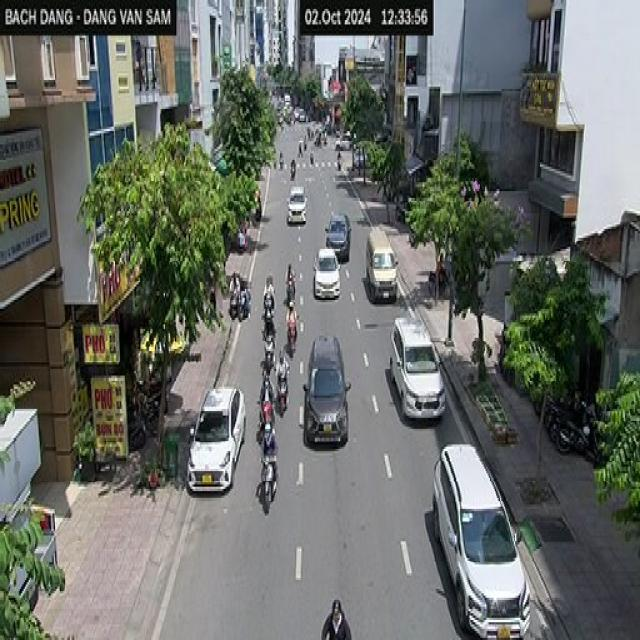car: (432, 450, 526, 640), (186, 384, 246, 494), (389, 313, 446, 420), (301, 333, 351, 447), (365, 225, 397, 302), (312, 246, 340, 298), (324, 211, 350, 260), (286, 184, 306, 224)
motorcycle: (258, 453, 278, 500), (252, 382, 280, 411), (287, 271, 300, 316), (280, 367, 294, 407), (259, 354, 274, 390), (287, 321, 301, 357), (264, 308, 275, 334)
person: (320, 598, 351, 638), (280, 293, 302, 343), (256, 336, 278, 377), (262, 421, 278, 465), (274, 344, 291, 382), (262, 267, 275, 312), (230, 269, 244, 296), (263, 374, 272, 414), (284, 256, 296, 284)
